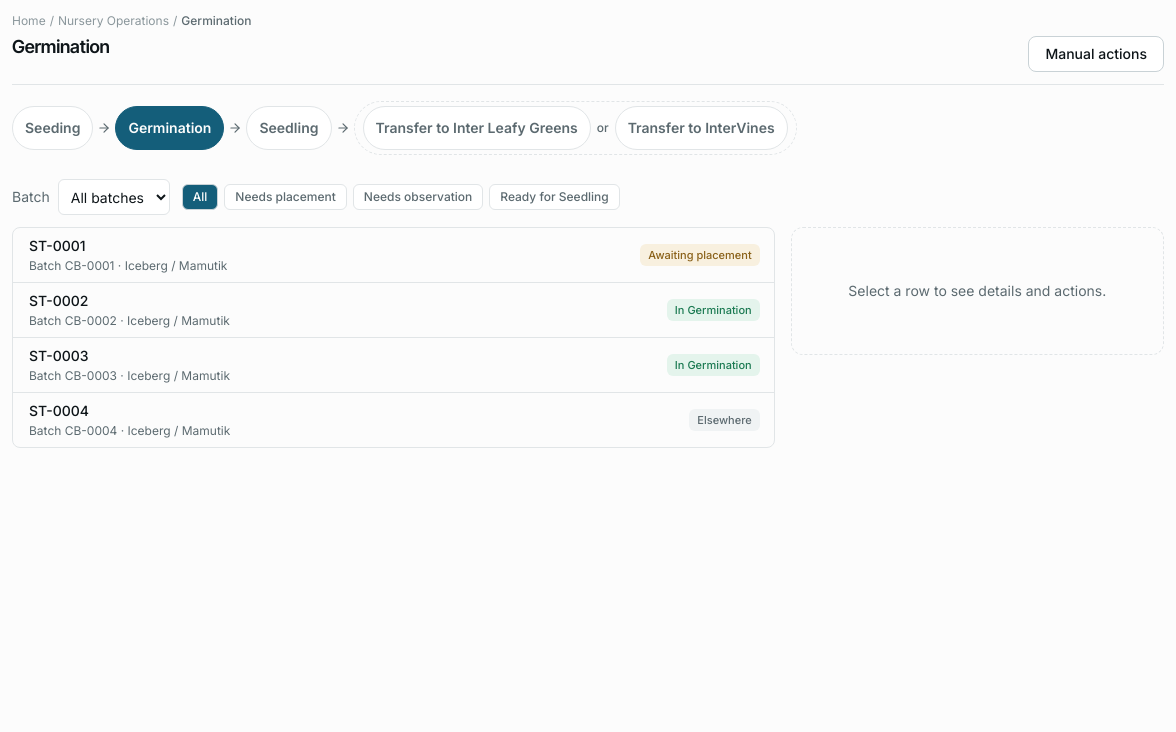
Scenario: GerminationPage worklist › selecting a row exposes only the action currently valid for that item -- never a fabricated action for an ineligible Tray
Expected: the text "ST-0001" is shown, x1=29 y1=236 x2=86 y2=256
Click the button "ST-0001 Batch CB-0001 · Iceberg / Mamutik".
click(57, 246)  # box x1=29 y1=236 x2=628 y2=274
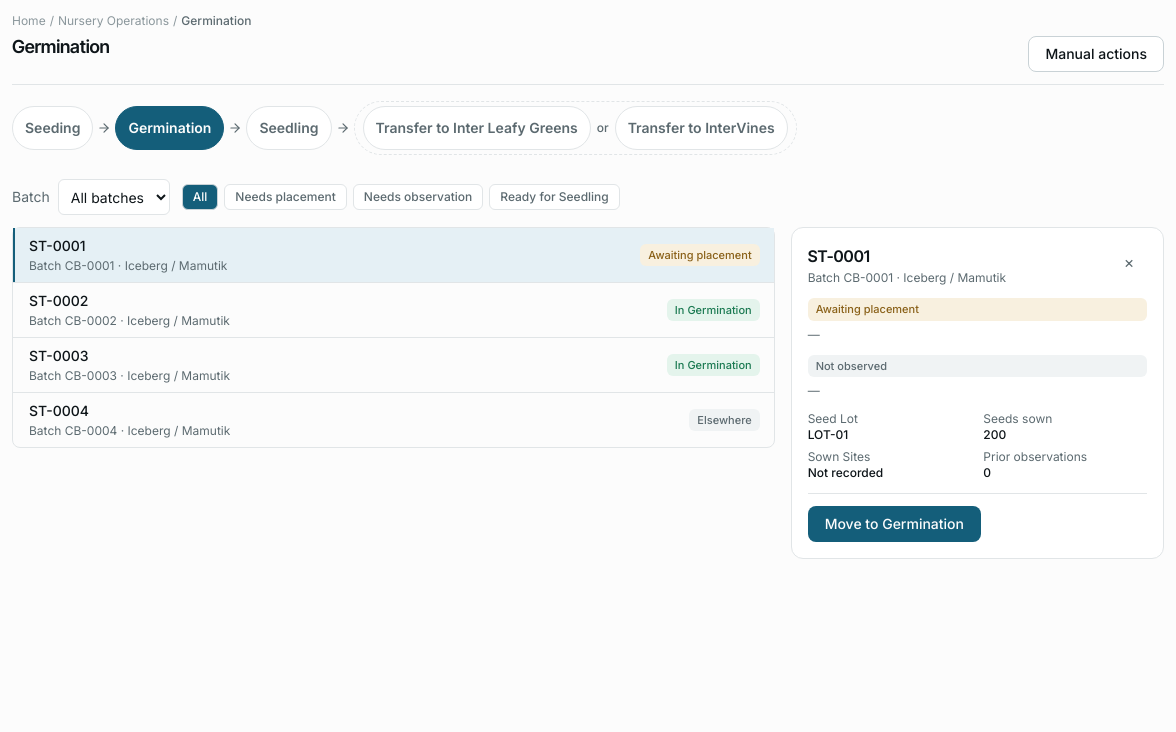
Now the button "Move to Germination" is shown, box x1=808 y1=506 x2=981 y2=542
Click the button "ST-0002 Batch CB-0002 · Iceberg / Mamutik".
click(59, 300)  # box x1=29 y1=291 x2=655 y2=329
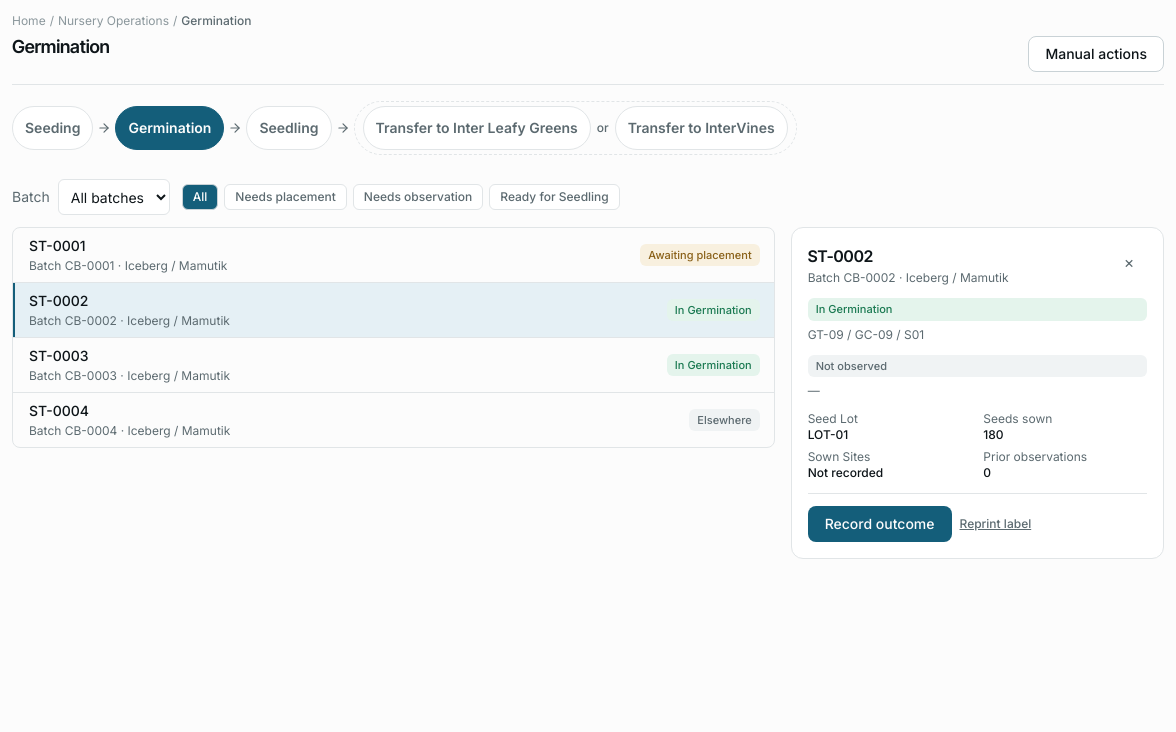
Now the button "Record outcome" is shown, box x1=808 y1=506 x2=952 y2=542
Now the button "Move to Germination" is gone
Click the button "ST-0003 Batch CB-0003 · Iceberg / Mamutik".
click(59, 356)  # box x1=29 y1=346 x2=655 y2=384
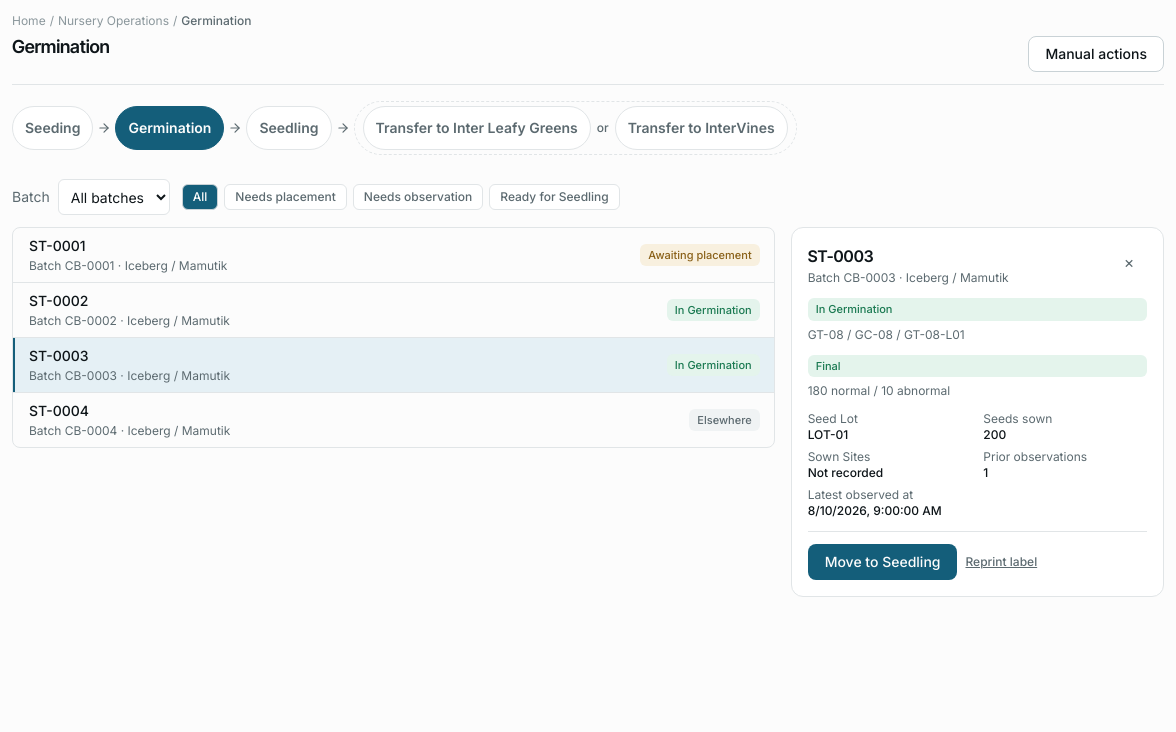
Now the button "Move to Seedling" is shown, box x1=808 y1=544 x2=958 y2=580
Now the button "Record outcome" is gone
Click the button "ST-0004 Batch CB-0004 · Iceberg / Mamutik".
click(59, 410)  # box x1=29 y1=401 x2=677 y2=439
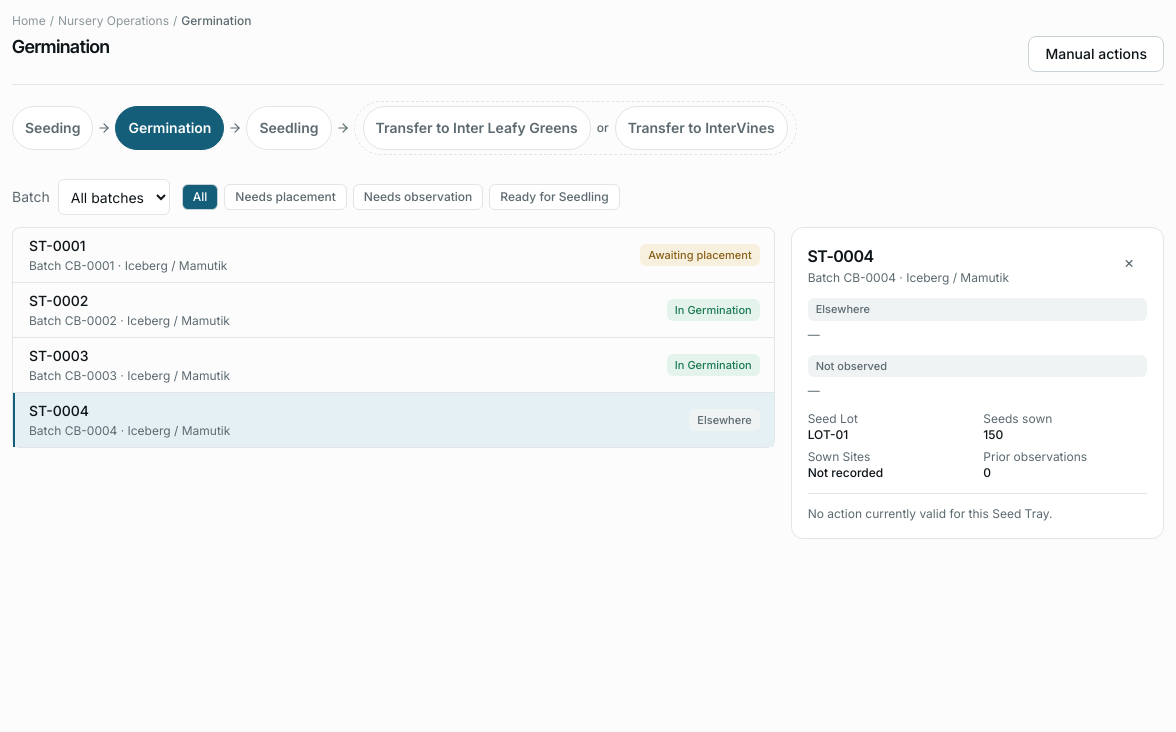
Now the text "No action currently valid for this Seed Tray." is shown, box x1=808 y1=506 x2=1052 y2=522
Now the button "Move to Seedling" is gone
